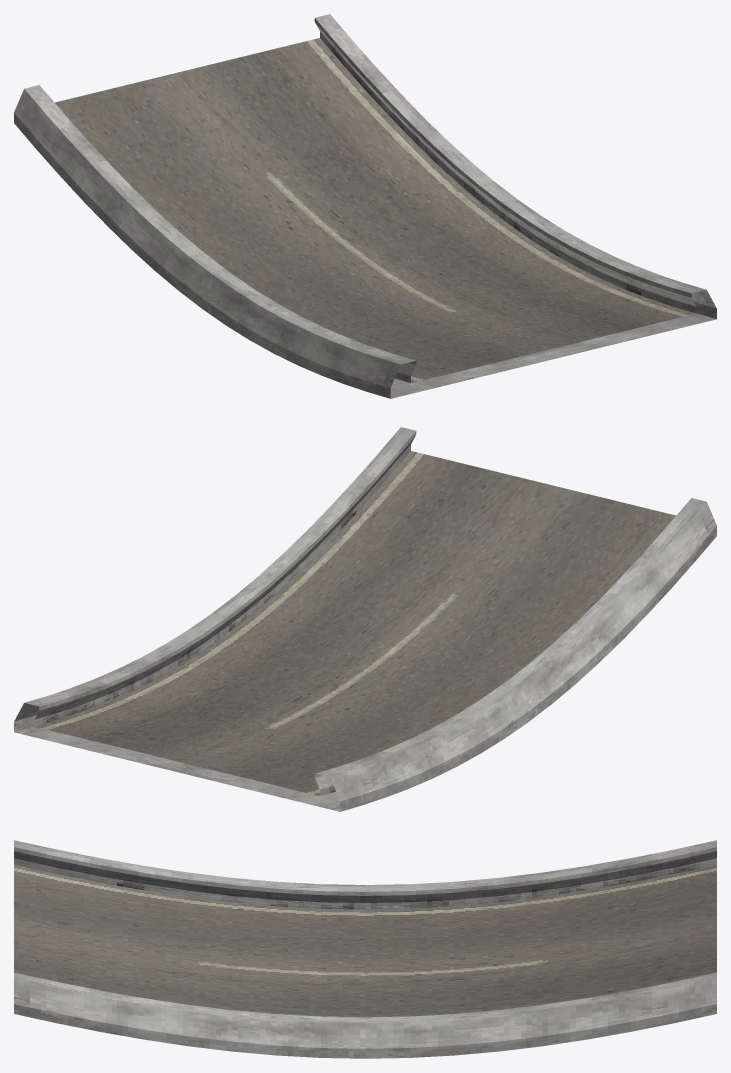
Rendered from straight2.glb.
3 renders of one model, top to bottom at view 1: azimuth 30°, elevation 25°; view 2: azimuth 150°, elevation 25°; view 3: azimuth 270°, elevation 25°, orthographic. The views are drawn at different scales.
Parts seen in each view (by area): view 1: road-Straight-BiSlopeDown-BiSlopeUp-Even-Center-Size2; view 2: road-Straight-BiSlopeDown-BiSlopeUp-Even-Center-Size2; view 3: road-Straight-BiSlopeDown-BiSlopeUp-Even-Center-Size2.
Part boxes in pixels (x1,y1,x2,y2): road-Straight-BiSlopeDown-BiSlopeUp-Even-Center-Size2: (14, 14, 716, 398); road-Straight-BiSlopeDown-BiSlopeUp-Even-Center-Size2: (14, 427, 716, 811); road-Straight-BiSlopeDown-BiSlopeUp-Even-Center-Size2: (14, 840, 716, 1058).
Bounding box in the file's own units: 1 × 0.2344 × 2.
2 materials, 2 textured.
